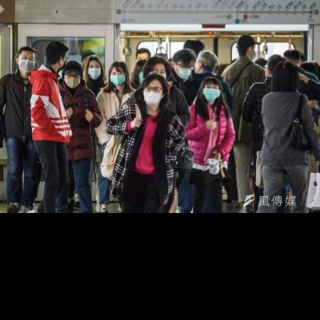with_mask: (143, 85, 164, 107), (19, 53, 37, 72), (203, 84, 222, 102), (176, 62, 195, 80), (109, 70, 127, 88), (63, 72, 82, 89), (148, 68, 167, 83), (87, 64, 102, 80), (137, 68, 146, 85)
